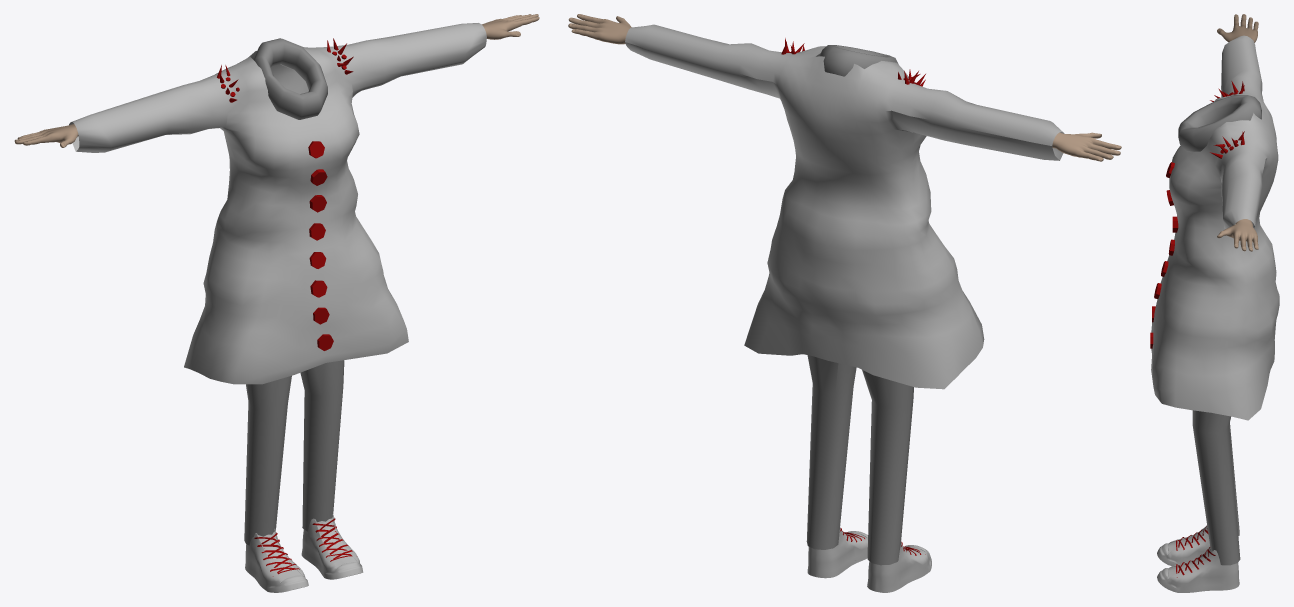
The model's file is Zombie.fbx.
3 renders of one model, left to right at view 1: azimuth 30°, elevation 25°; view 2: azimuth 150°, elevation 25°; view 3: azimuth 270°, elevation 25°, orthographic. The views are drawn at different scales.
Parts seen in each view (by area): view 1: test_maya:polySurface10; view 2: test_maya:polySurface10; view 3: test_maya:polySurface10.
Part boxes in pixels (x1,y1,x2,y2): test_maya:polySurface10: (14, 14, 539, 592); test_maya:polySurface10: (568, 14, 1121, 592); test_maya:polySurface10: (1150, 14, 1279, 592).
Bounding box in the file's own units: 53.08 × 49.69 × 12.34.
